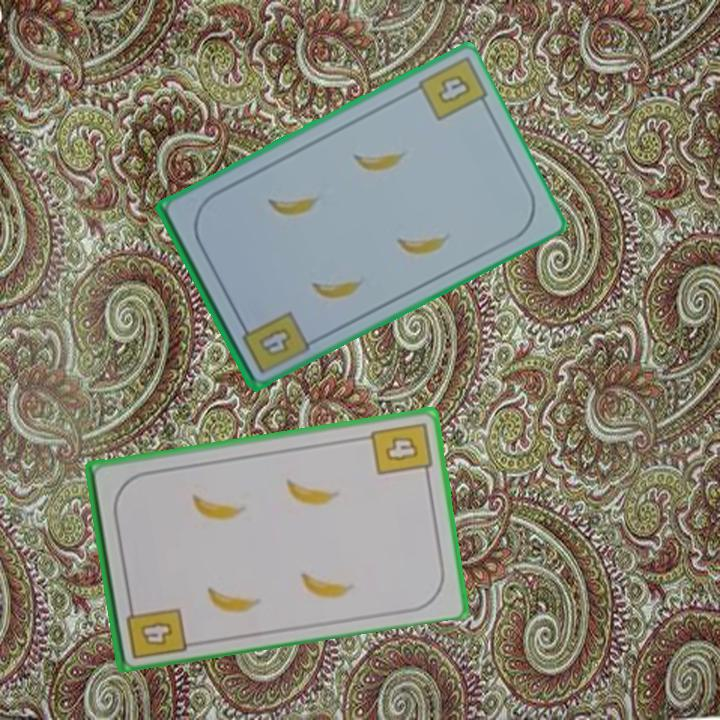4b: (235, 307, 310, 377), (122, 596, 189, 662), (367, 418, 435, 481), (434, 70, 474, 107)
